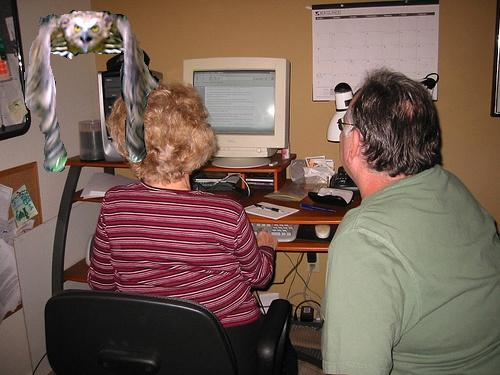tampered: (25, 11, 159, 172)
